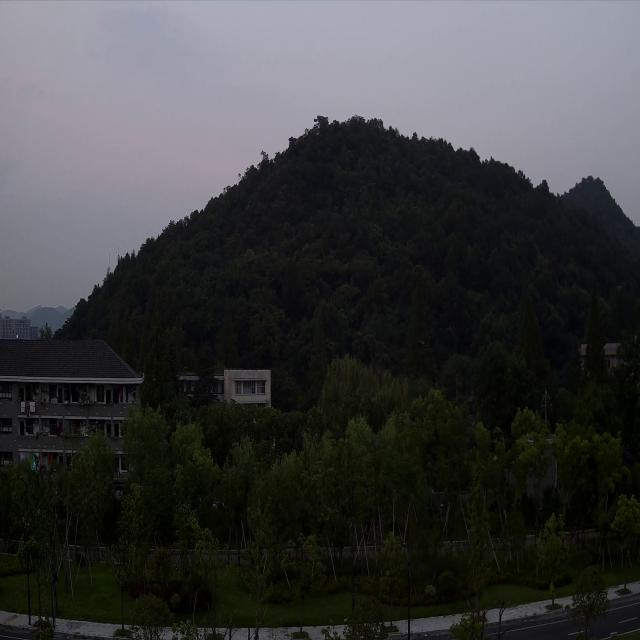drone: (420, 339, 428, 346)
